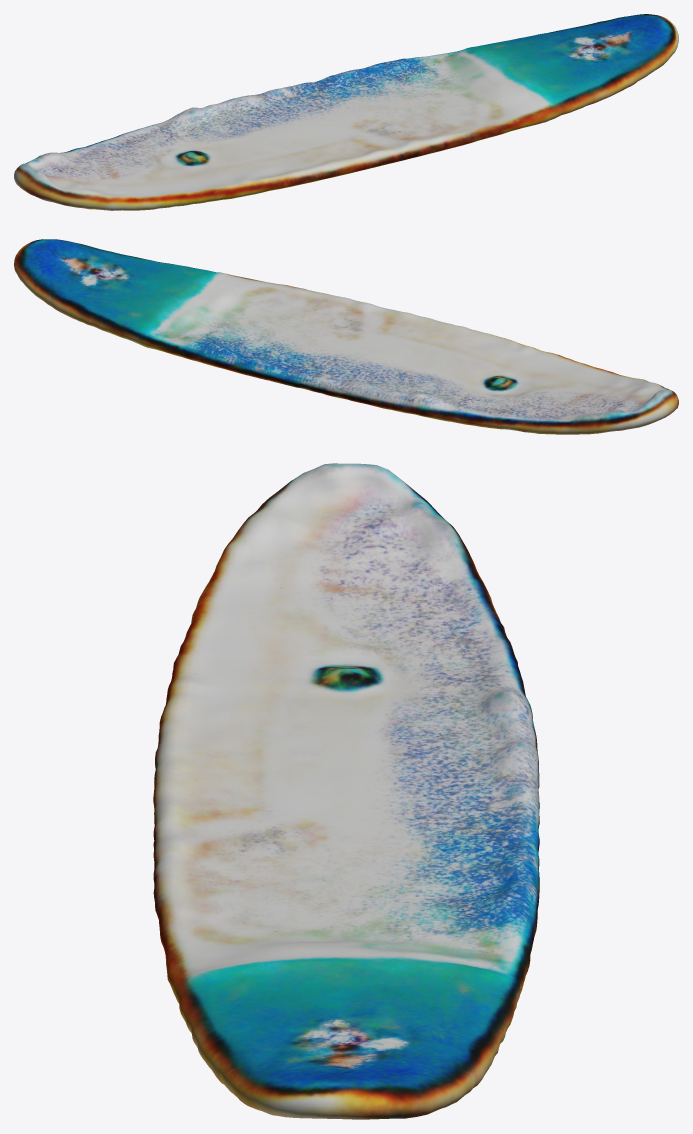
Rendered from c26d37a98d66_Vietnam_Da_Nang_Bea.obj.
The picture shows the model from 3 angles, top to bottom: view 1: azimuth 30°, elevation 25°; view 2: azimuth 150°, elevation 25°; view 3: azimuth 270°, elevation 25°; orthographic projection. The views are drawn at different scales.
Visible parts, largest first — view 1: mesh; view 2: mesh; view 3: mesh.
Boxes of the visible parts, x1,y1,x2,y2 form: mesh: (14, 14, 678, 210); mesh: (14, 239, 678, 434); mesh: (153, 463, 539, 1119).
Bounding box in the file's own units: 0.9992 × 0.0591 × 0.2571.
Materials: 1 (1 with a texture image).
